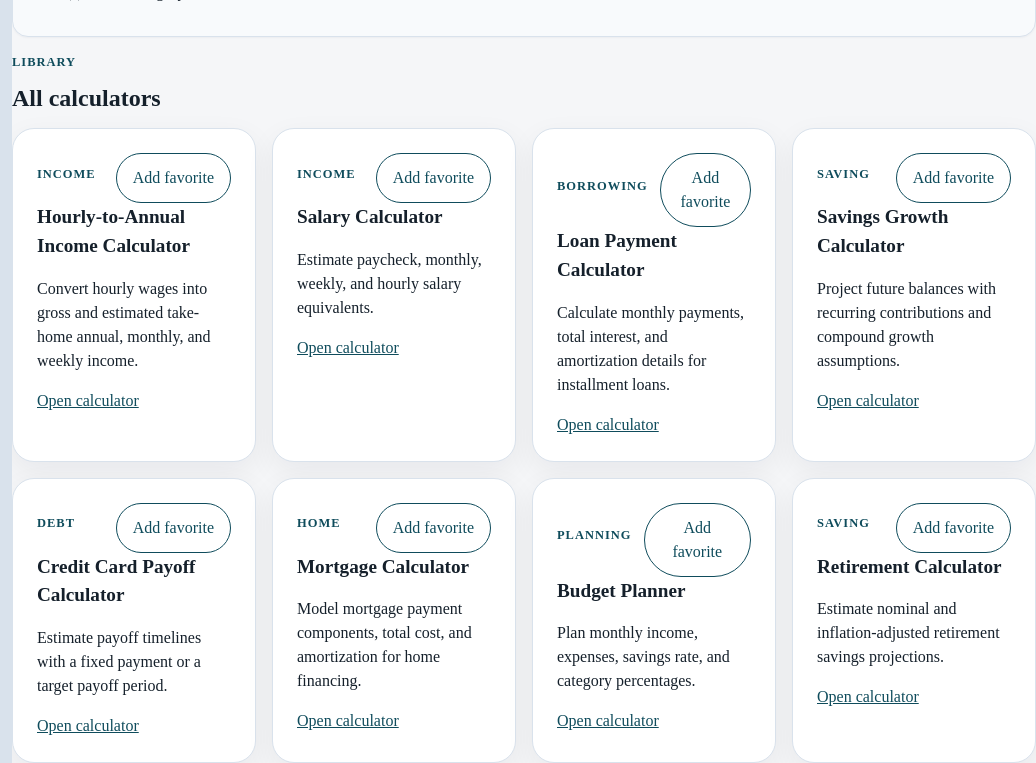
Scenario: app behavior › adds and clears favorites in the directory
The width and height of the screenshot is (1036, 763).
(page scrolled)
Step 1. Click the button named "mortgage calculator" → (433, 528), box left=376, top=503, right=491, bottom=553
(page scrolled)
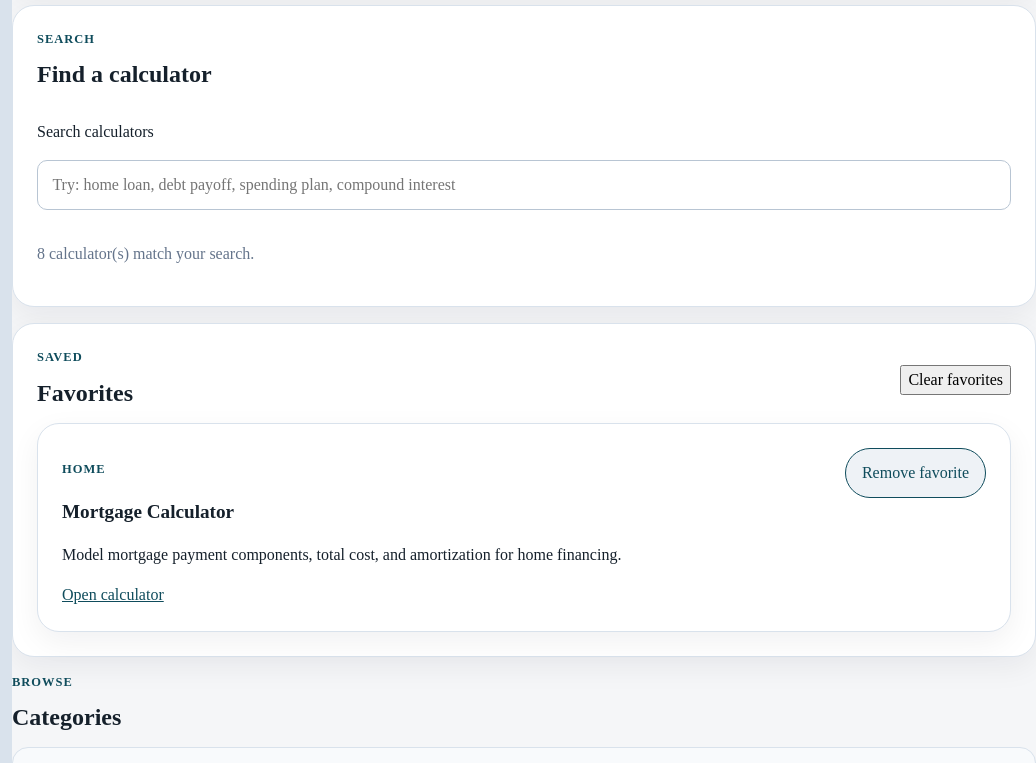
Expected: the element "Favorites" is shown, left=12, top=323, right=1035, bottom=657
Expected: the heading "Mortgage Calculator" is shown, left=62, top=501, right=234, bottom=522
Step 2. Click the button "Clear favorites" → (956, 380), box left=900, top=365, right=1011, bottom=395
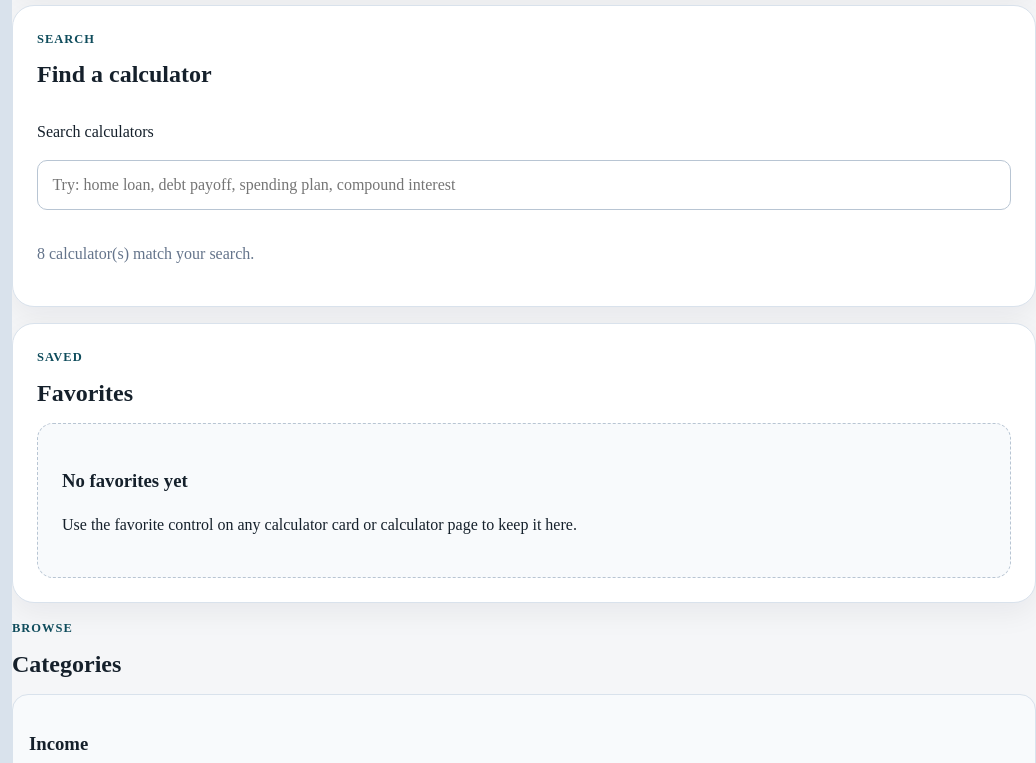
Expected: the heading "No favorites yet" is shown, left=62, top=470, right=188, bottom=491
